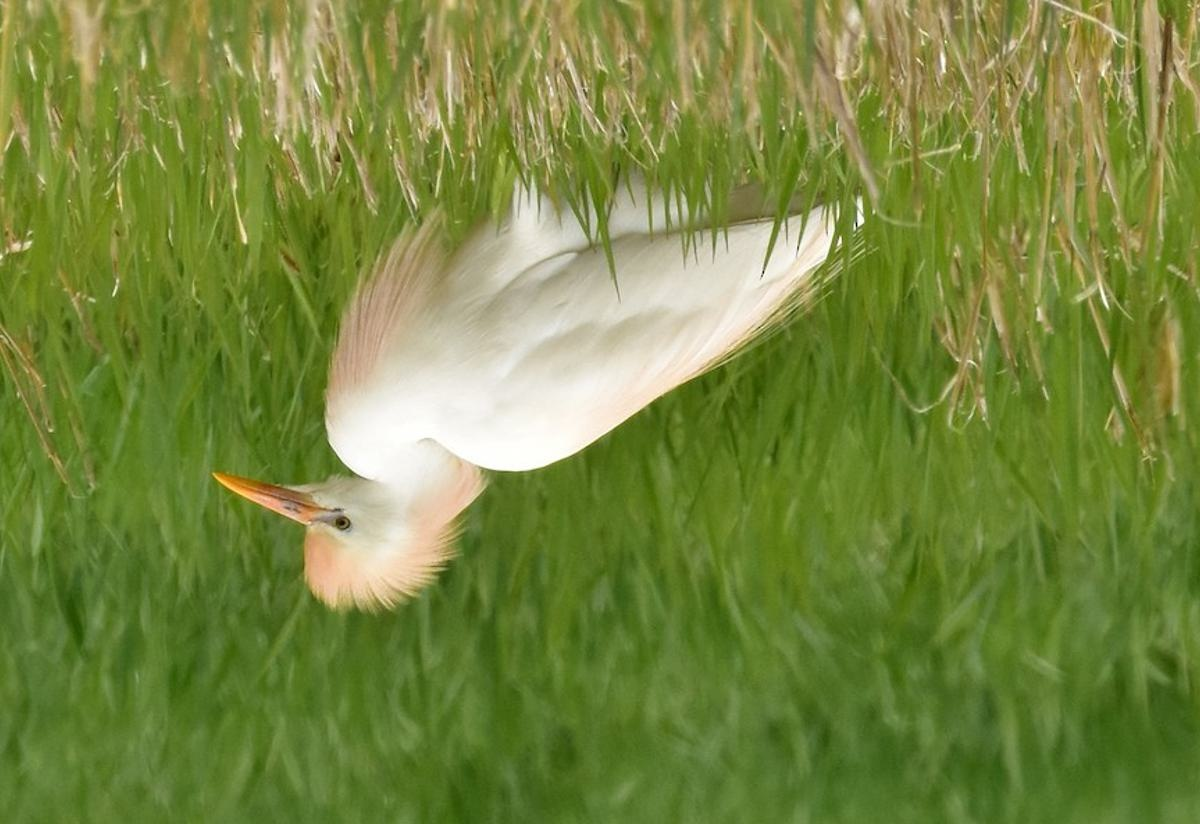egret: (217, 147, 884, 621)
